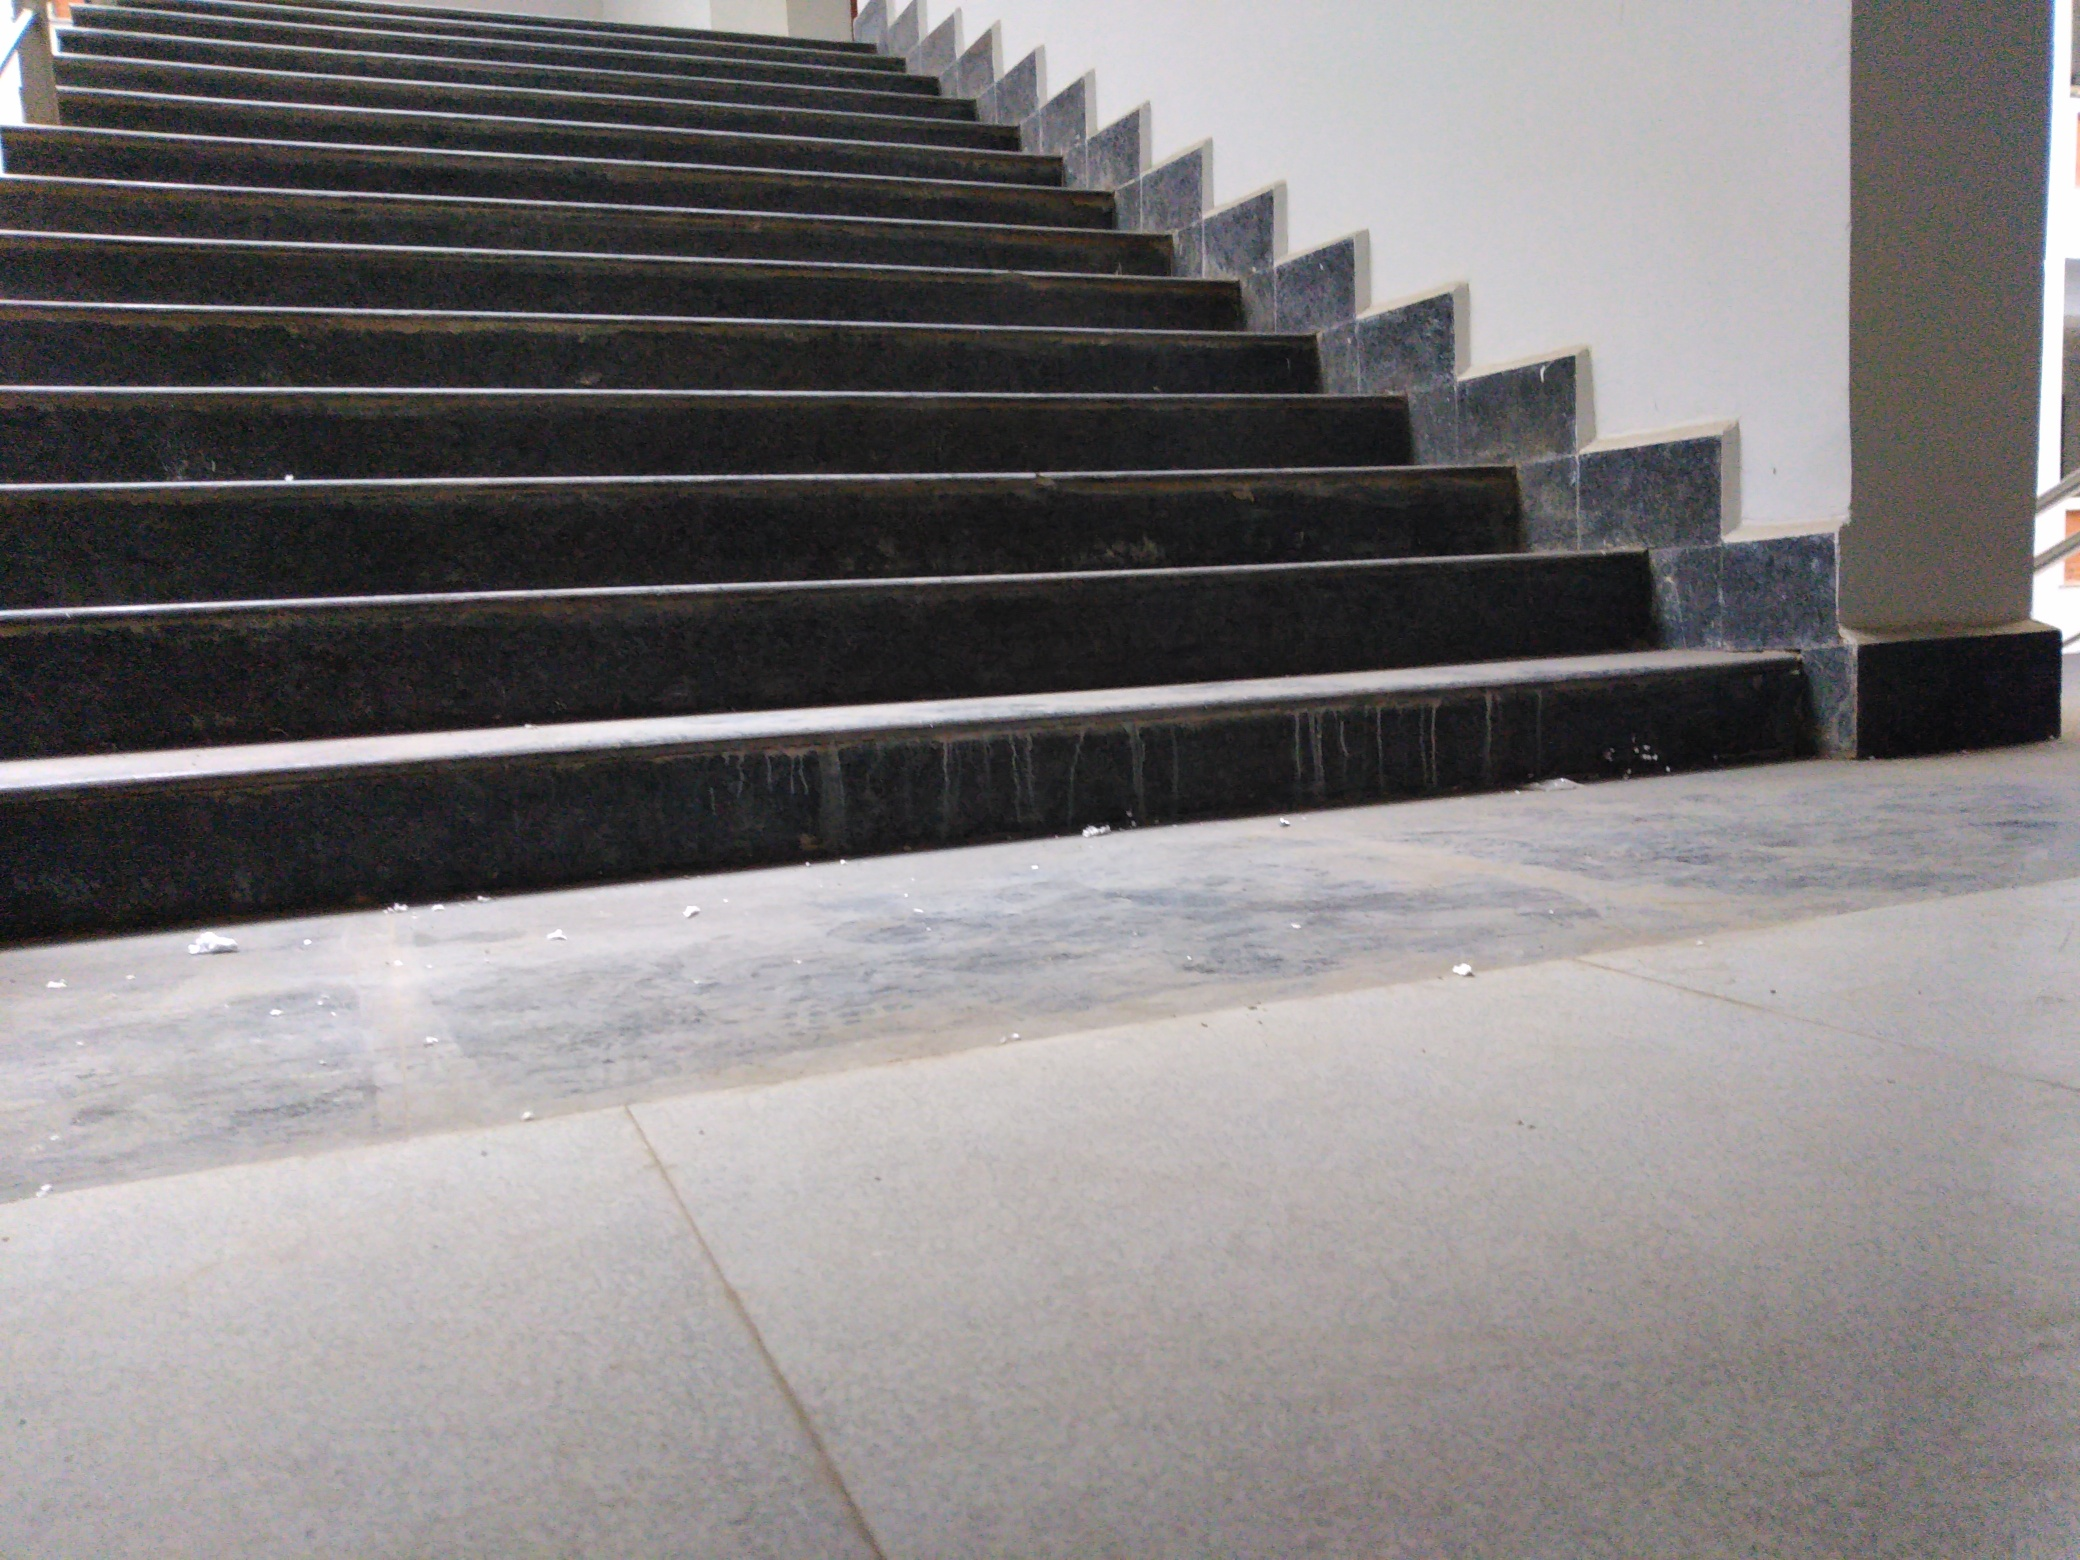stairs_up: (16, 11, 1883, 868)
